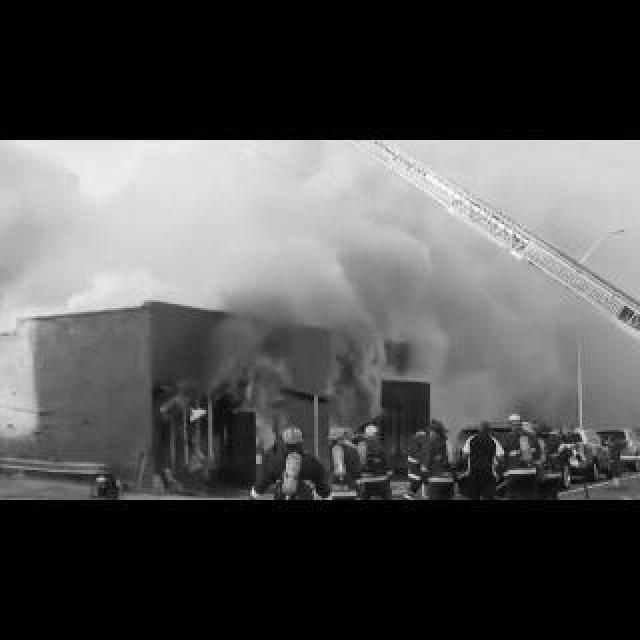Fire: (160, 362, 276, 460)
Smoke: (290, 228, 576, 426), (198, 294, 280, 390)
